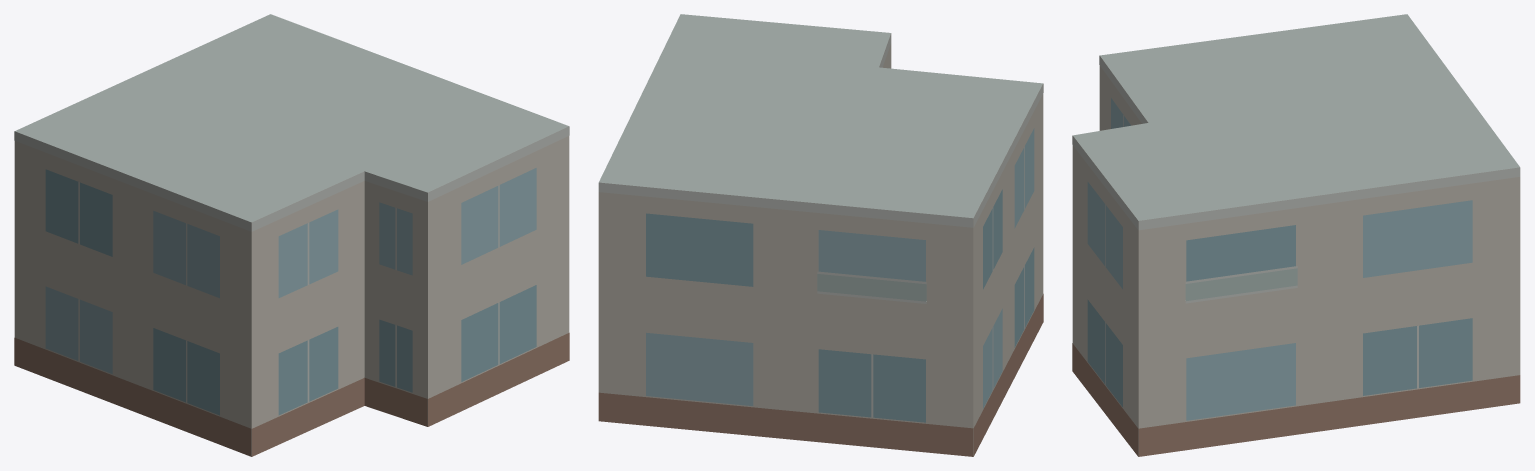
The model's file is survey-upis-32608002.glb.
The picture shows the model from 3 angles, left to right: view 1: azimuth 30°, elevation 25°; view 2: azimuth 150°, elevation 25°; view 3: azimuth 270°, elevation 25°; orthographic projection.
Parts seen in each view (by area): view 1: survey-upis-32608002.tmp; view 2: survey-upis-32608002.tmp; view 3: survey-upis-32608002.tmp.
Boxes of the visible parts, box(x1,y1,x2,y2) form: survey-upis-32608002.tmp: box(14, 14, 569, 456); survey-upis-32608002.tmp: box(598, 14, 1043, 456); survey-upis-32608002.tmp: box(1072, 14, 1520, 456).
Size of the model in its own units: 11.49 by 6.1 by 10.5.
